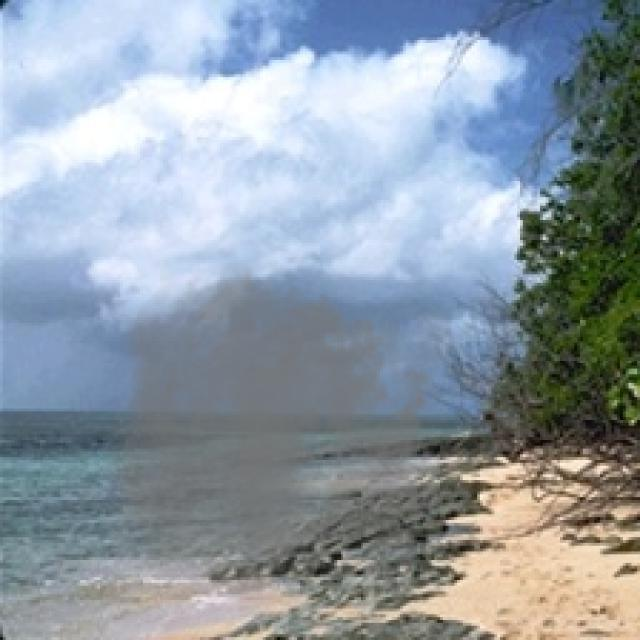Smoke: (106, 251, 452, 600)
